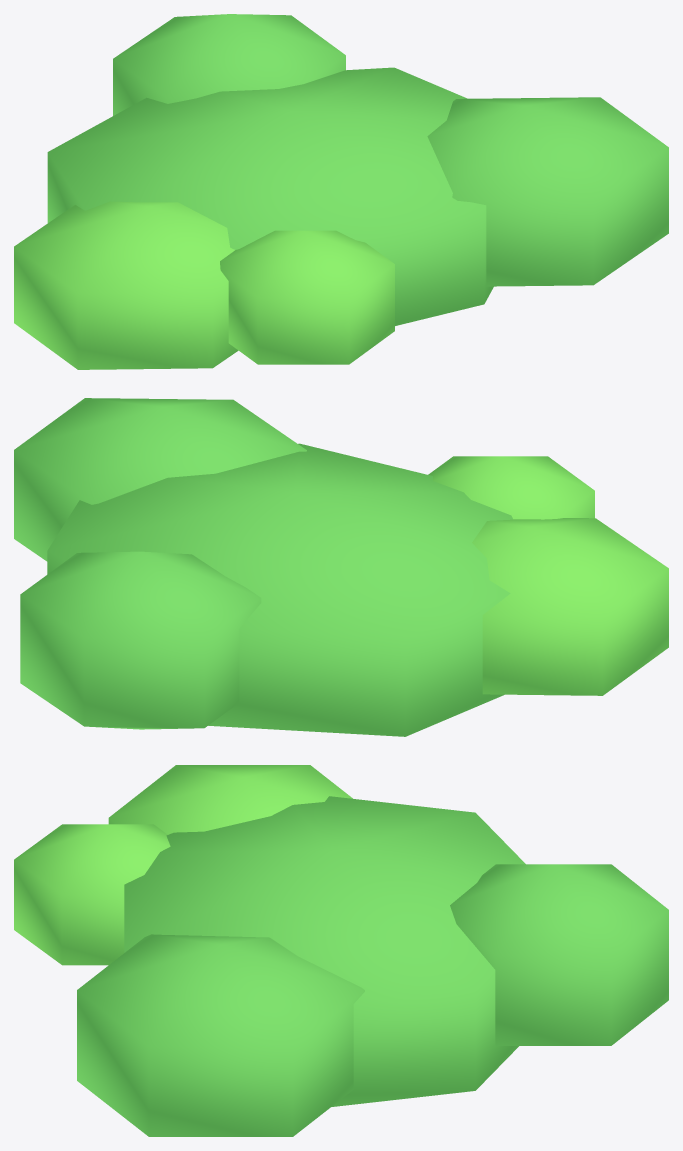
The model's file is dc_moss_mat.glb.
3 views of the same model, one above another, from view 1: azimuth 30°, elevation 25°; view 2: azimuth 150°, elevation 25°; view 3: azimuth 270°, elevation 25° (orthographic). The views are drawn at different scales.
Visible parts, largest first — view 1: part.dc_moss_mat; view 2: part.dc_moss_mat; view 3: part.dc_moss_mat.
Boxes of the visible parts, bbox=[...] form: part.dc_moss_mat: bbox=[14, 14, 668, 369]; part.dc_moss_mat: bbox=[14, 398, 668, 736]; part.dc_moss_mat: bbox=[14, 765, 668, 1136].
Size of the model in its own units: 0.6325 by 0.21 by 0.5905.
